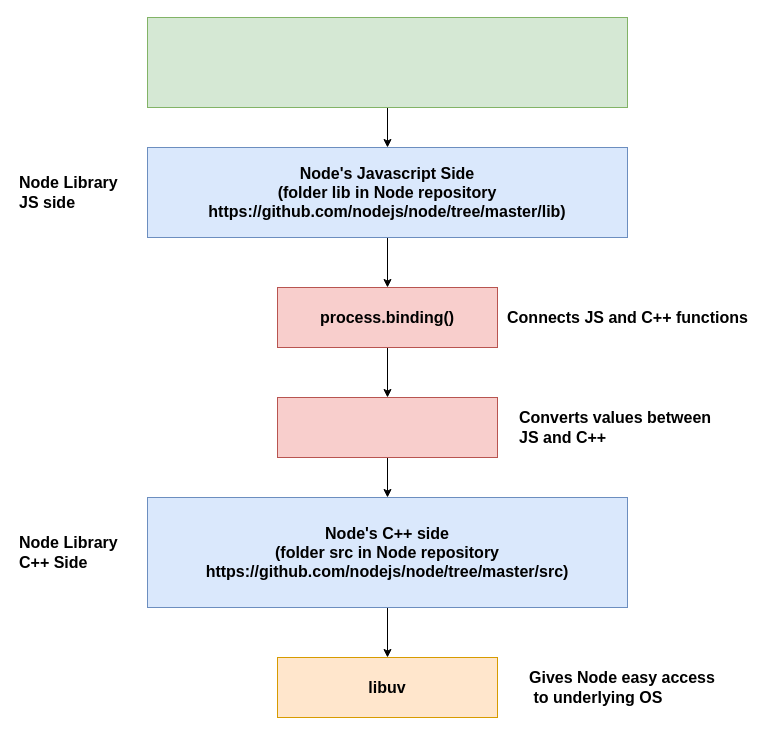
The diagram is 774 pixels wide and 735 high, and some of its shapes have lost their labels. Each missing label, with the centre of its shape:
V8: (387,427)
Your Javascript code: (387,62)
